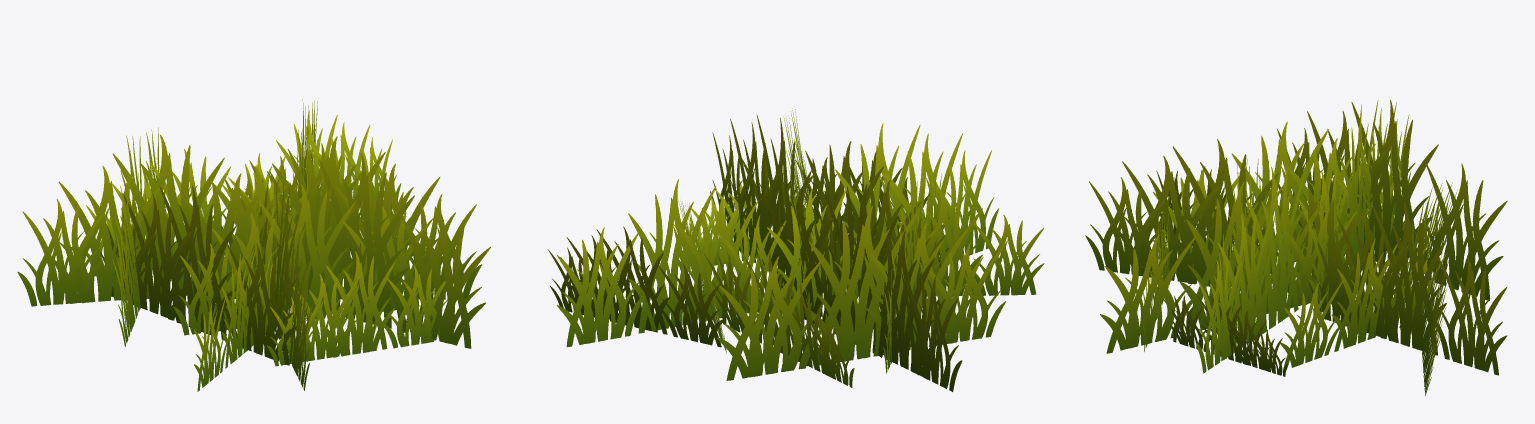
The model's file is mid_grass_13.gltf.
3 views of the same model, side by side, from view 1: azimuth 30°, elevation 25°; view 2: azimuth 150°, elevation 25°; view 3: azimuth 270°, elevation 25° (orthographic). The views are drawn at different scales.
Visible parts, largest first — view 1: default; view 2: default; view 3: default.
Boxes of the visible parts, <box> form: default: <box>17,99,490,391</box>; default: <box>547,108,1044,391</box>; default: <box>1085,99,1507,395</box>.
Size of the model in its own units: 1.16 by 0.5771 by 1.13.
1 material, 1 textured.
